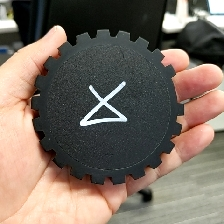gear: (29, 27, 185, 186)
missing: (164, 62, 186, 117)
